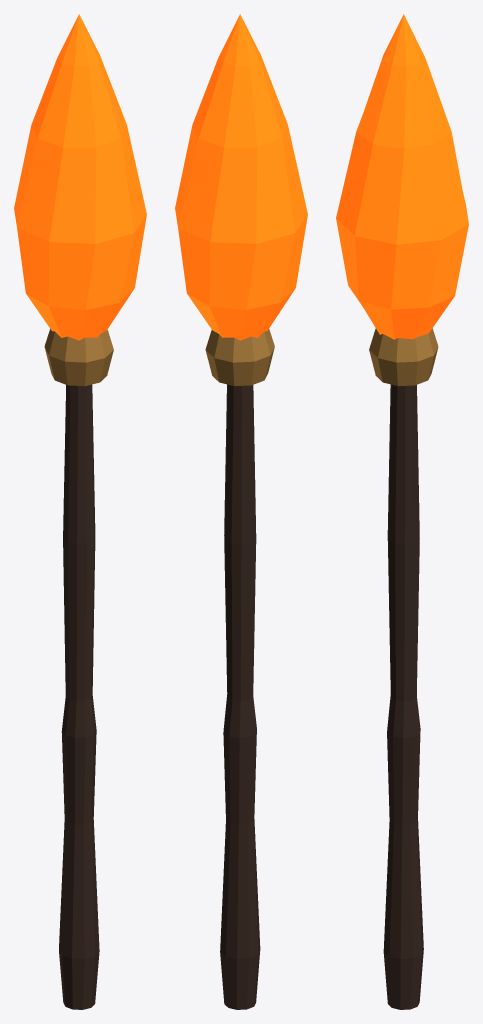
Rendered from staff_flame.glb.
The picture shows the model from 3 angles, left to right: view 1: azimuth 30°, elevation 25°; view 2: azimuth 150°, elevation 25°; view 3: azimuth 330°, elevation 25°; orthographic projection.
Visible parts, largest first — view 1: Flame_Core, Flame_Shaft, Flame_Collar; view 2: Flame_Core, Flame_Shaft, Flame_Collar; view 3: Flame_Core, Flame_Shaft, Flame_Collar.
Part boxes in pixels (x1=…): Flame_Core: x1=14, y1=14, x2=146, y2=340; Flame_Shaft: x1=59, y1=384, x2=99, y2=1009; Flame_Collar: x1=44, y1=329, x2=113, y2=386; Flame_Core: x1=175, y1=14, x2=307, y2=340; Flame_Shaft: x1=220, y1=384, x2=260, y2=1009; Flame_Collar: x1=205, y1=329, x2=274, y2=386; Flame_Core: x1=336, y1=14, x2=468, y2=339; Flame_Shaft: x1=383, y1=384, x2=423, y2=1009; Flame_Collar: x1=369, y1=328, x2=438, y2=386.
Bounding box in the file's own units: 0.2752 × 2.25 × 0.2741.
